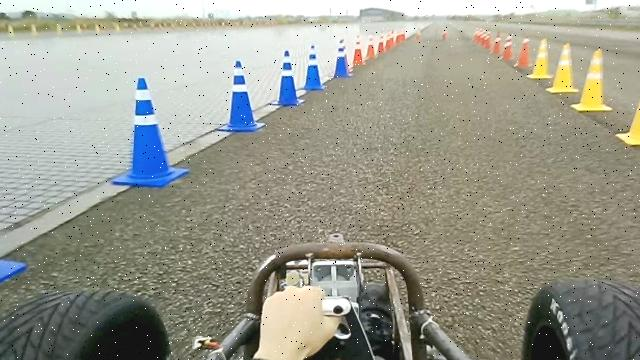blue cone: (111, 76, 189, 188), (216, 59, 266, 133), (271, 50, 304, 106), (299, 44, 326, 90), (331, 38, 353, 78)
yellow cone: (570, 48, 612, 112), (615, 67, 640, 146), (546, 42, 579, 94), (526, 37, 552, 79)
